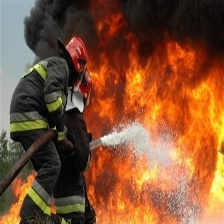fire: (85, 43, 224, 220)
smoke: (26, 1, 224, 41)
